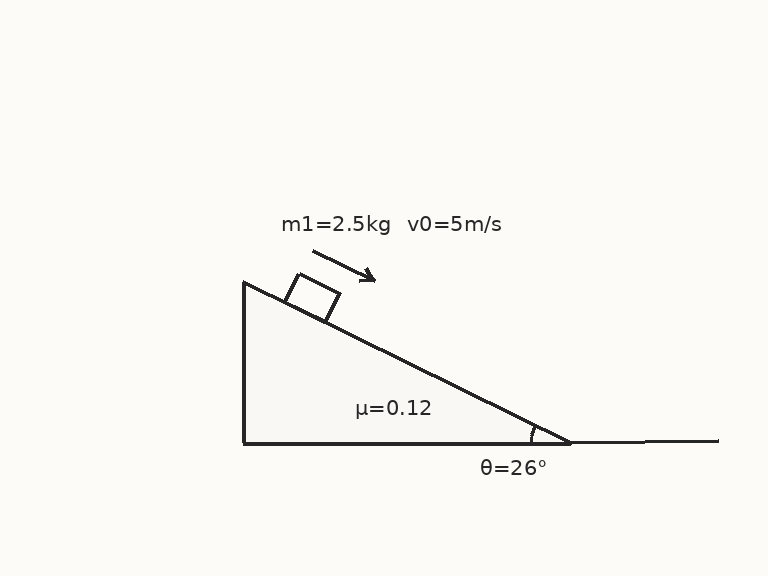block: (283, 271, 340, 324)
ramp: (241, 280, 573, 444)
